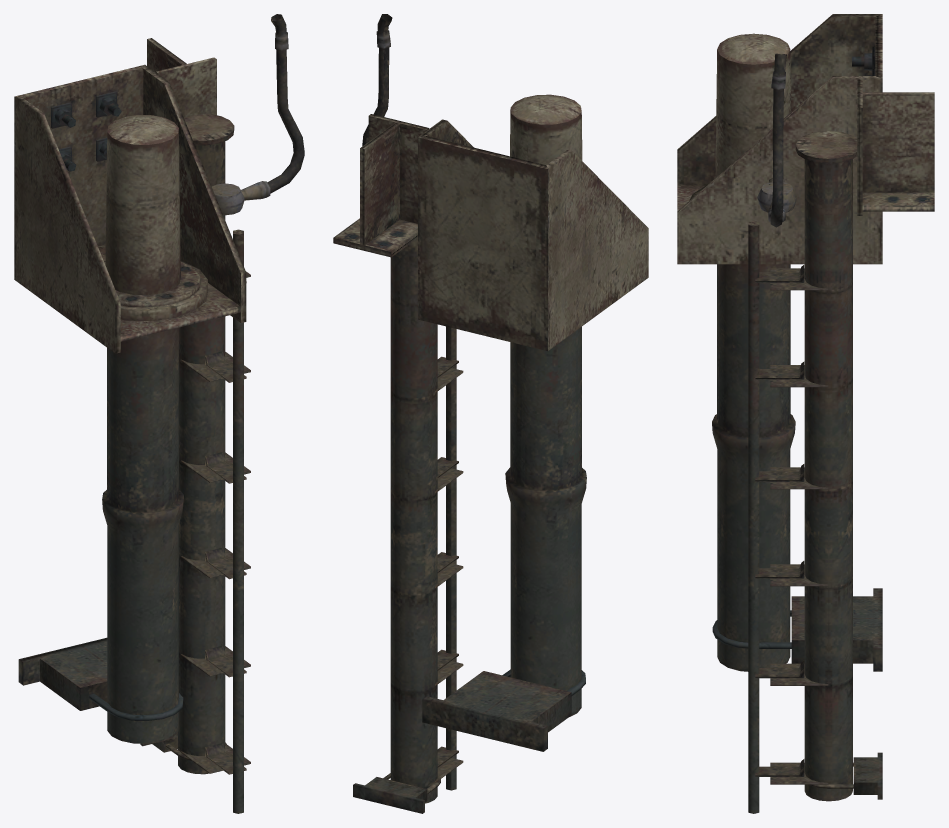
Rendered from sm22_008_watersensor01a.fbx.
3 views of the same model, side by side, from view 1: azimuth 30°, elevation 25°; view 2: azimuth 150°, elevation 25°; view 3: azimuth 270°, elevation 25° (orthographic).
Parts seen in each view (by area): view 1: LOD_1_Group_0_Sub_1__sm22_008_WaterSensor01A_A_Mat; view 2: LOD_1_Group_0_Sub_1__sm22_008_WaterSensor01A_A_Mat; view 3: LOD_1_Group_0_Sub_1__sm22_008_WaterSensor01A_A_Mat.
Part boxes in pixels (x1,y1,x2,y2): LOD_1_Group_0_Sub_1__sm22_008_WaterSensor01A_A_Mat: (14,14,304,813); LOD_1_Group_0_Sub_1__sm22_008_WaterSensor01A_A_Mat: (333,14,648,813); LOD_1_Group_0_Sub_1__sm22_008_WaterSensor01A_A_Mat: (677,14,934,813).
Bounding box in the file's own units: 0.8328 × 2.58 × 0.7671.
